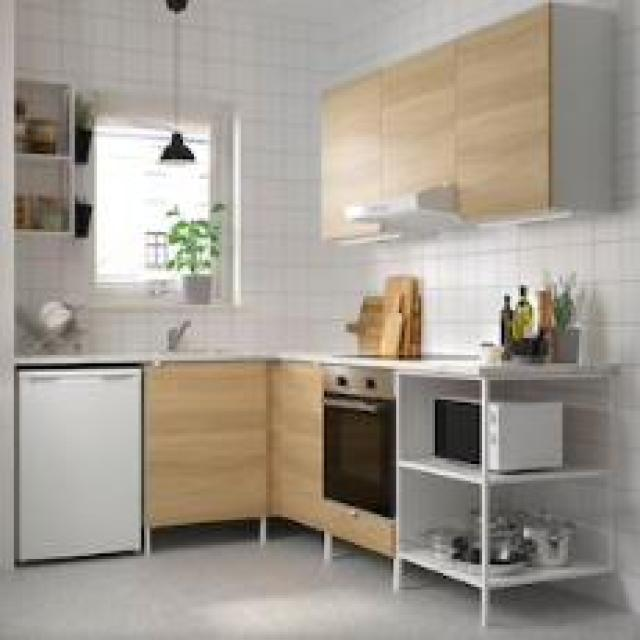dishwasher: (14, 363, 141, 556)
